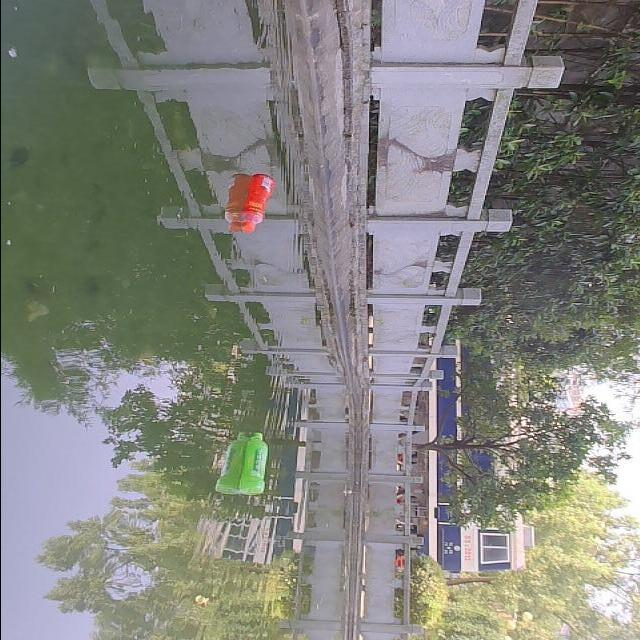Bottle: (232, 166, 278, 240), (232, 426, 273, 502)
